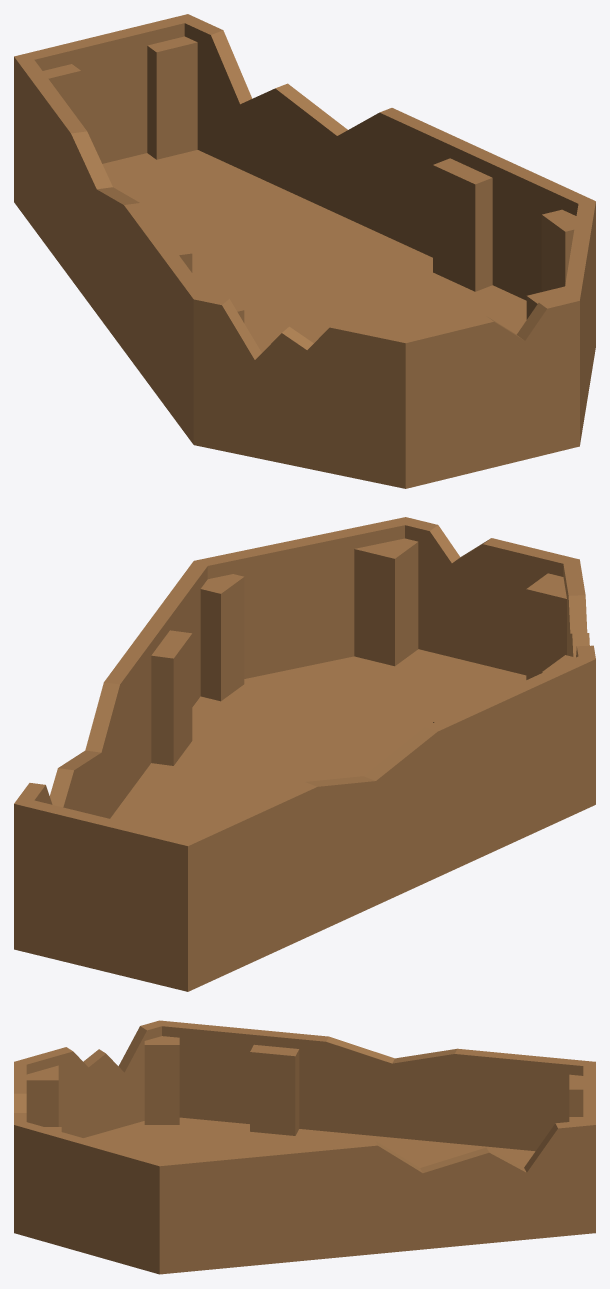
The model's file is coffinOld.fbx.
3 renders of one model, top to bottom at view 1: azimuth 30°, elevation 25°; view 2: azimuth 150°, elevation 25°; view 3: azimuth 270°, elevation 25°, orthographic. The views are drawn at different scales.
Parts seen in each view (by area): view 1: coffinOld; view 2: coffinOld; view 3: coffinOld.
Part boxes in pixels (x1,y1,x2,y2): coffinOld: (14,14,595,488); coffinOld: (14,517,595,991); coffinOld: (14,1020,595,1274).
Size of the model in its own units: 5.93 by 2.05 by 10.
